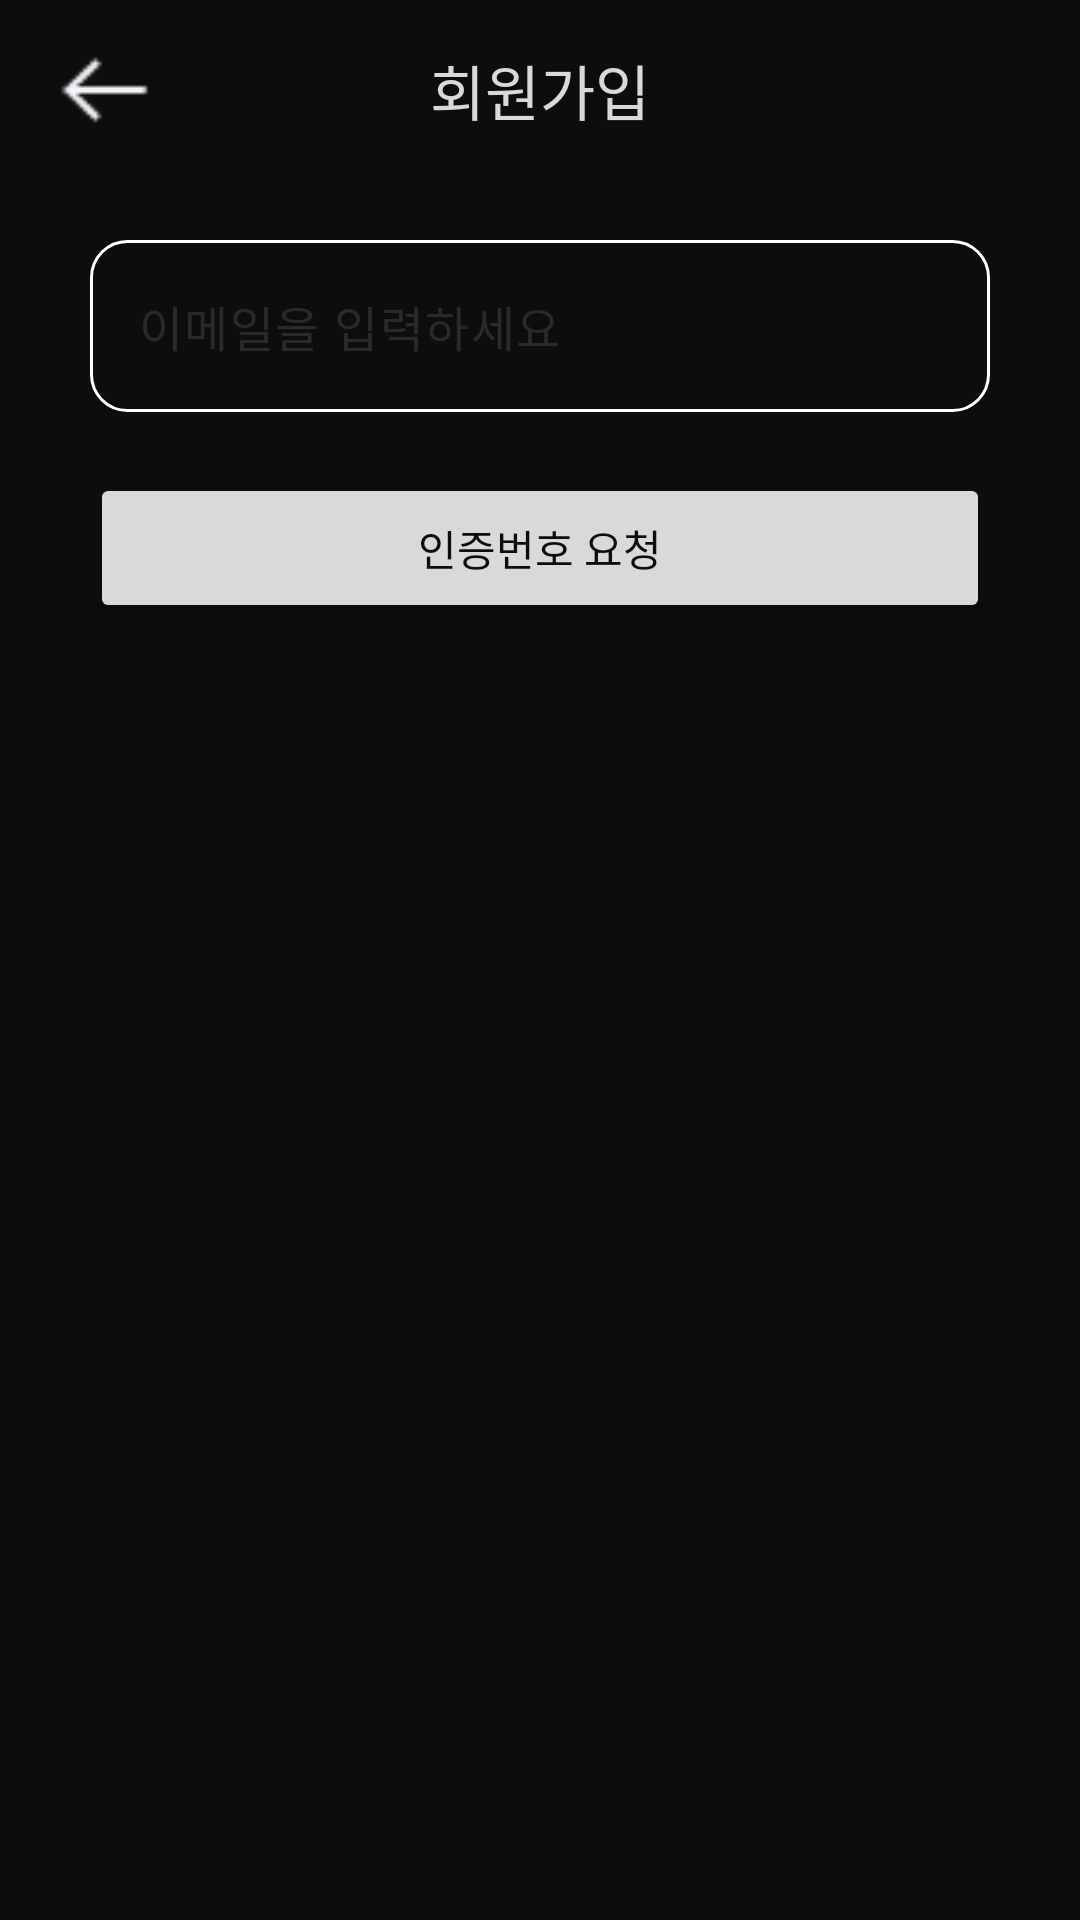

Screen size 1080 × 1920. Icon name, then its box in pixels as (x1, y1, x2, y2):
뒤로가기: (61, 57, 148, 123)
